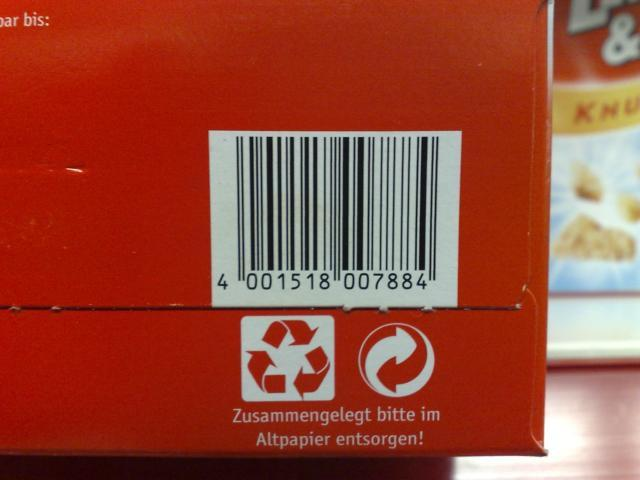Barcode: (209, 131, 461, 306)
